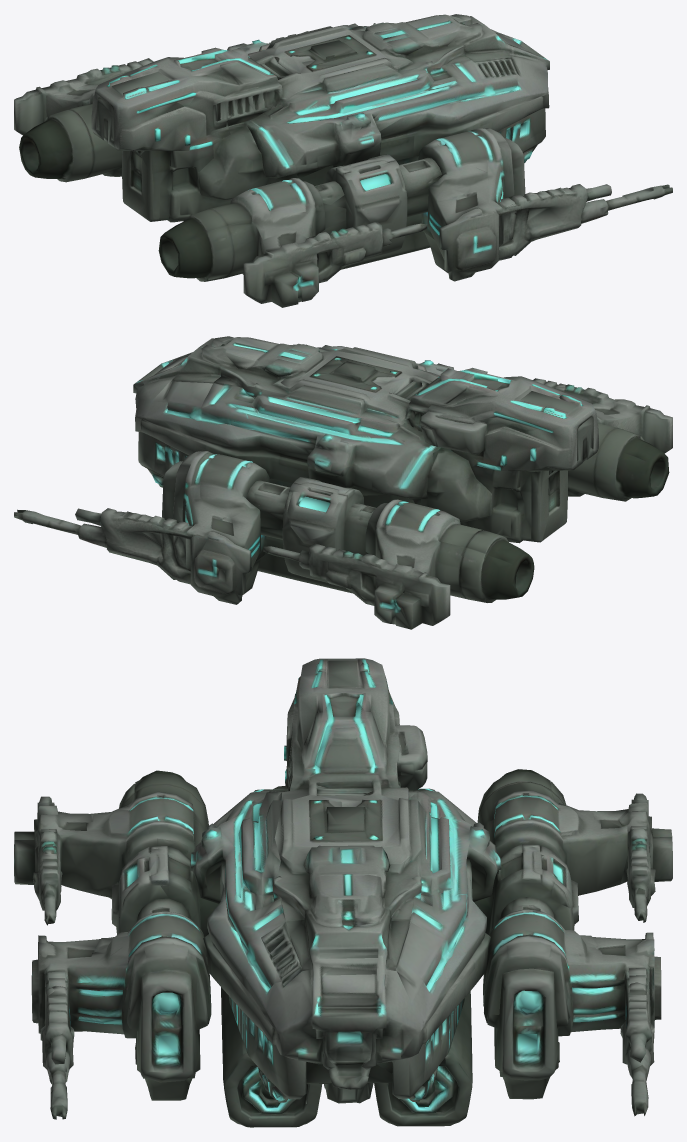
The model's file is Nave7.glb.
The picture shows the model from 3 angles, top to bottom: view 1: azimuth 30°, elevation 25°; view 2: azimuth 150°, elevation 25°; view 3: azimuth 270°, elevation 25°; orthographic projection. The views are drawn at different scales.
Parts seen in each view (by area): view 1: tripo_part_0, tripo_part_14, tripo_part_1, tripo_part_3, tripo_part_6, tripo_part_8, tripo_part_11, tripo_part_18, tripo_part_9, tripo_part_12, tripo_part_10, tripo_part_4 (+1 smaller); view 2: tripo_part_0, tripo_part_2, tripo_part_15, tripo_part_6, tripo_part_14, tripo_part_5, tripo_part_9, tripo_part_8, tripo_part_19, tripo_part_13, tripo_part_17, tripo_part_7 (+1 smaller); view 3: tripo_part_0, tripo_part_1, tripo_part_2, tripo_part_14, tripo_part_3, tripo_part_6, tripo_part_15, tripo_part_16, tripo_part_5, tripo_part_4, tripo_part_7, tripo_part_9 (+5 smaller).
Boxes of the visible parts, x1,y1,x2,y2 form: tripo_part_0: (91, 14, 549, 160); tripo_part_14: (158, 178, 427, 307); tripo_part_1: (418, 128, 672, 281); tripo_part_3: (244, 58, 518, 259); tripo_part_6: (19, 84, 122, 182); tripo_part_8: (122, 137, 230, 222); tripo_part_11: (272, 65, 447, 116); tripo_part_18: (198, 123, 275, 200); tripo_part_9: (14, 58, 153, 135); tripo_part_12: (399, 157, 441, 216); tripo_part_10: (396, 108, 545, 164); tripo_part_4: (341, 213, 430, 269); tripo_part_0: (133, 336, 598, 483); tripo_part_2: (14, 450, 269, 604); tripo_part_15: (152, 381, 452, 504); tripo_part_6: (365, 499, 534, 602); tripo_part_14: (533, 378, 672, 501); tripo_part_5: (246, 477, 388, 582); tripo_part_9: (263, 543, 450, 629); tripo_part_8: (451, 449, 567, 543); tripo_part_19: (420, 450, 491, 521); tripo_part_13: (420, 411, 486, 454); tripo_part_17: (138, 432, 292, 487); tripo_part_7: (258, 536, 352, 593); tripo_part_0: (203, 658, 490, 1073); tripo_part_1: (31, 911, 211, 1119); tripo_part_2: (483, 909, 661, 1116); tripo_part_14: (14, 770, 208, 925); tripo_part_3: (111, 789, 301, 988); tripo_part_6: (477, 769, 627, 895); tripo_part_15: (395, 786, 501, 1003); tripo_part_16: (487, 968, 559, 1099); tripo_part_5: (474, 844, 578, 934); tripo_part_4: (221, 987, 322, 1127); tripo_part_7: (374, 991, 472, 1126); tripo_part_9: (618, 793, 672, 922).
Bounding box in the file's own units: 0.9843 × 0.4104 × 0.9181.
1 material, 1 textured.
